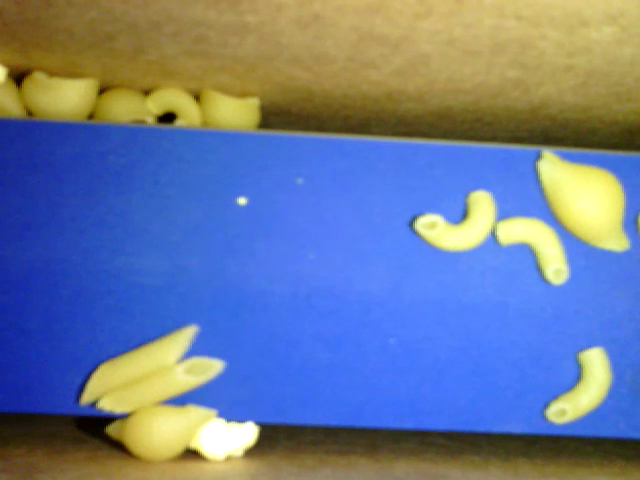elbow: (493, 216, 569, 288), (543, 344, 612, 423), (413, 188, 497, 252), (146, 86, 205, 130)
penne: (80, 322, 198, 405), (96, 353, 225, 418)
shell: (536, 146, 630, 251), (103, 402, 218, 460), (20, 70, 98, 120), (197, 86, 260, 130), (92, 86, 156, 125)
